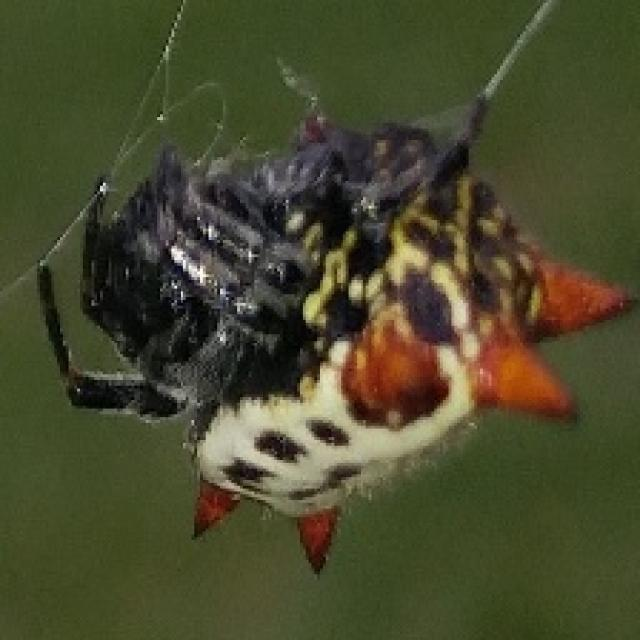Non venomous spider: (35, 31, 604, 602)
